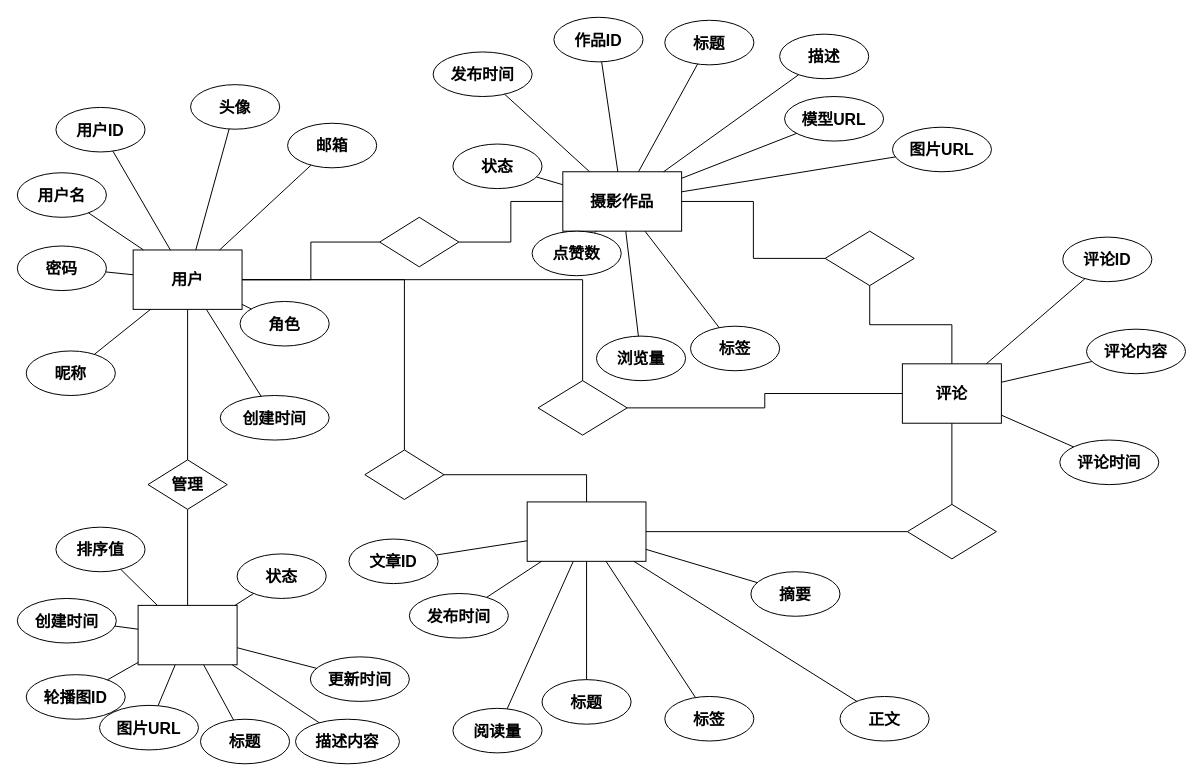
This 1203x781 diagram has some shape labels left out. Each missing label, with the centre of its shape:
关联作品: pixel 869 258
关联文章: pixel 951 531
发布: pixel 419 241
发表评论: pixel 582 407
撰写: pixel 404 474
社区文章: pixel 586 531
轮播图: pixel 187 634
